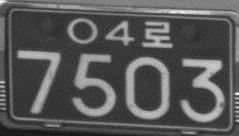0: (123, 55, 170, 120), (66, 16, 98, 45)
3: (179, 57, 225, 123)
4: (104, 19, 134, 46)
5: (70, 52, 116, 118)
7: (15, 48, 61, 114)
로: (142, 20, 172, 49)
